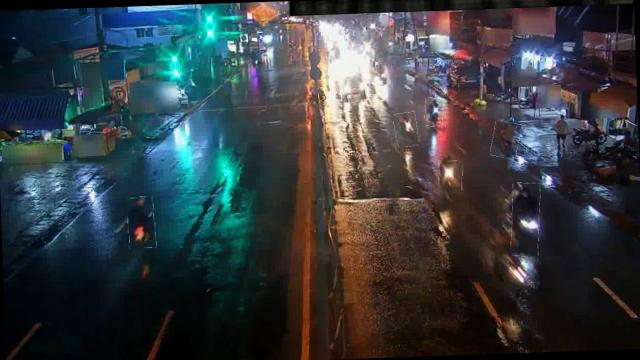Bike: (509, 183, 542, 258), (127, 197, 156, 248), (490, 121, 521, 158), (394, 112, 419, 148), (438, 161, 462, 192), (424, 97, 444, 127), (376, 63, 389, 85)
Car: (342, 71, 368, 102)
